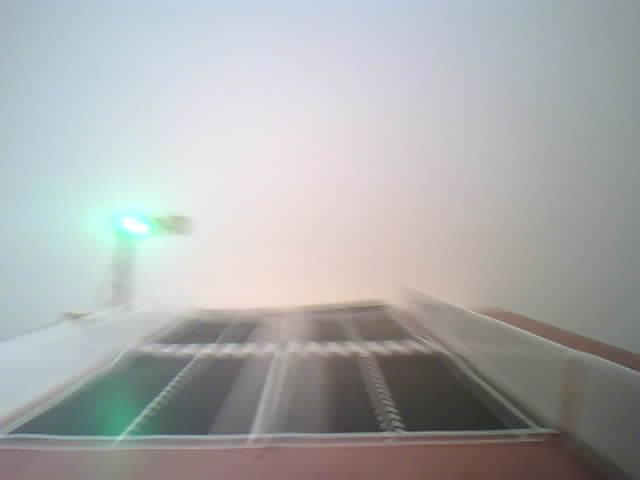crosswalk: (123, 325, 450, 368)
green: (110, 208, 210, 303)
